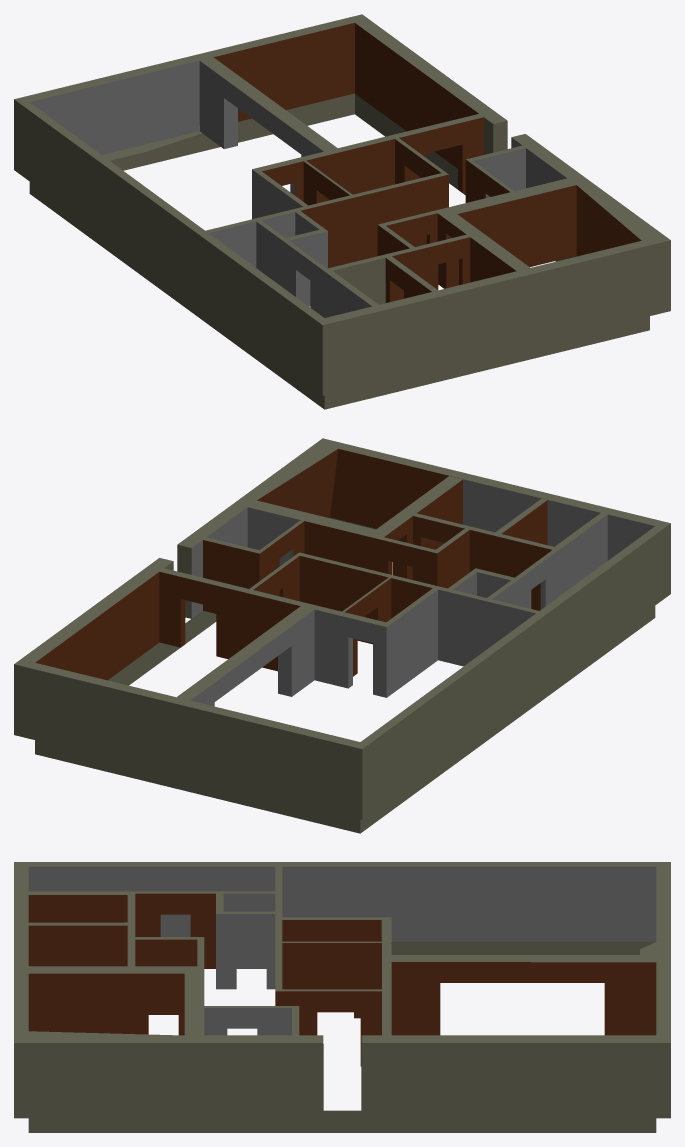
File: penthause_for_horror (1).fbx
3 renders of one model, top to bottom at view 1: azimuth 30°, elevation 25°; view 2: azimuth 150°, elevation 25°; view 3: azimuth 270°, elevation 25°, orthographic. The views are drawn at different scales.
Visible parts, largest first — view 1: main; view 2: main; view 3: main.
Boxes of the visible parts, <box> form: main: <box>14,14,670,409</box>; main: <box>14,438,670,833</box>; main: <box>14,862,670,1132</box>.
Bounding box in the file's own units: 1963 × 494 × 3014.
